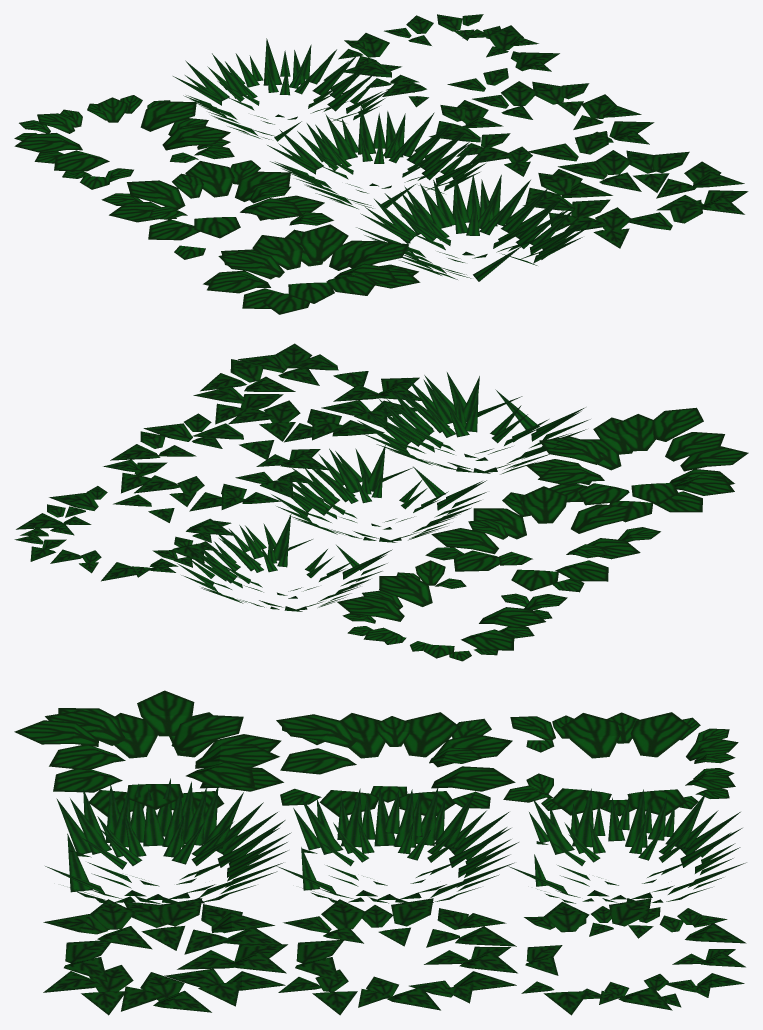
File: Weeds.fbx
3 views of the same model, one above another, from view 1: azimuth 30°, elevation 25°; view 2: azimuth 150°, elevation 25°; view 3: azimuth 270°, elevation 25° (orthographic). The views are drawn at different scales.
Visible parts, largest first — view 1: WeedExotic3, WeedDecorative3, WeedExotic2, WeedWild3, WeedExotic1, WeedDecorative2, WeedWild2, WeedWild1, WeedDecorative1; view 2: WeedExotic3, WeedExotic2, WeedDecorative3, WeedExotic1, WeedDecorative2, WeedWild3, WeedWild2, WeedDecorative1, WeedWild1; view 3: WeedExotic3, WeedDecorative3, WeedWild3, WeedExotic2, WeedDecorative2, WeedExotic1, WeedWild2, WeedDecorative1, WeedWild1.
Part boxes in pixels (box(x1,y1,x2,y2)): WeedExotic3: box(203, 224, 420, 314); WeedDecorative3: box(523, 150, 748, 248); WeedExotic2: box(101, 160, 333, 259); WeedWild3: box(356, 174, 590, 281); WeedExotic1: box(14, 95, 234, 189); WeedDecorative2: box(429, 81, 654, 176); WeedWild2: box(267, 107, 488, 209); WeedWild1: box(173, 38, 388, 141); WeedDecorative1: box(338, 14, 559, 107); WeedExotic3: box(526, 407, 748, 522); WeedExotic2: box(425, 486, 660, 592); WeedDecorative3: box(193, 343, 423, 442); WeedExotic1: box(337, 560, 567, 661); WeedDecorative2: box(103, 413, 329, 511); WeedWild3: box(357, 372, 590, 474); WeedWild2: box(271, 445, 486, 542); WeedDecorative1: box(14, 486, 232, 581); WeedWild1: box(177, 514, 392, 611); WeedExotic3: box(14, 690, 283, 816); WeedDecorative3: box(43, 898, 287, 1015); WeedWild3: box(45, 778, 291, 904); WeedExotic2: box(276, 712, 515, 816); WeedDecorative2: box(278, 898, 517, 1015); WeedExotic1: box(503, 712, 738, 816); WeedWild2: box(276, 787, 518, 903); WeedDecorative1: box(521, 898, 746, 1015); WeedWild1: box(508, 788, 746, 903).
Size of the model in its own units: 319 by 20.63 by 318.
